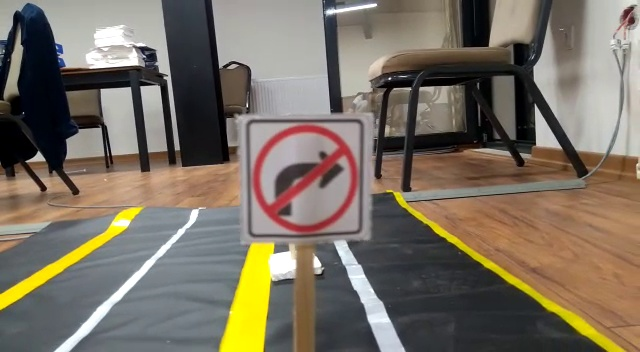saga_donulmez: (243, 117, 369, 233)
